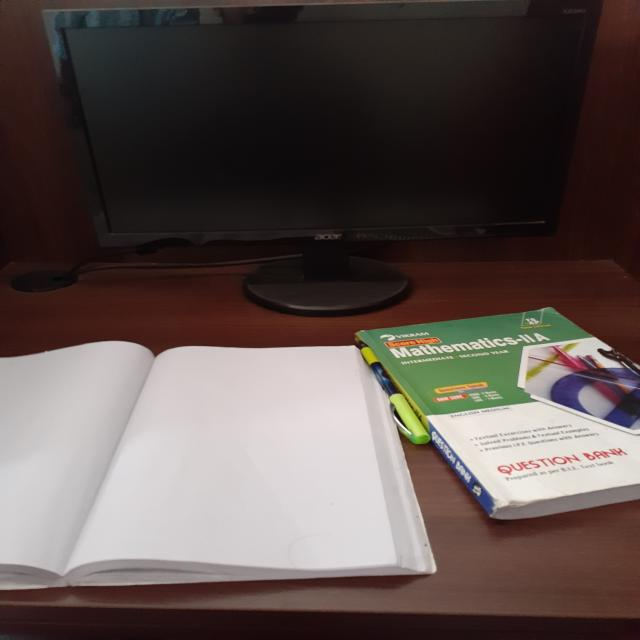paper: (85, 332, 452, 600), (350, 307, 640, 526)
plastic: (340, 326, 442, 449)
